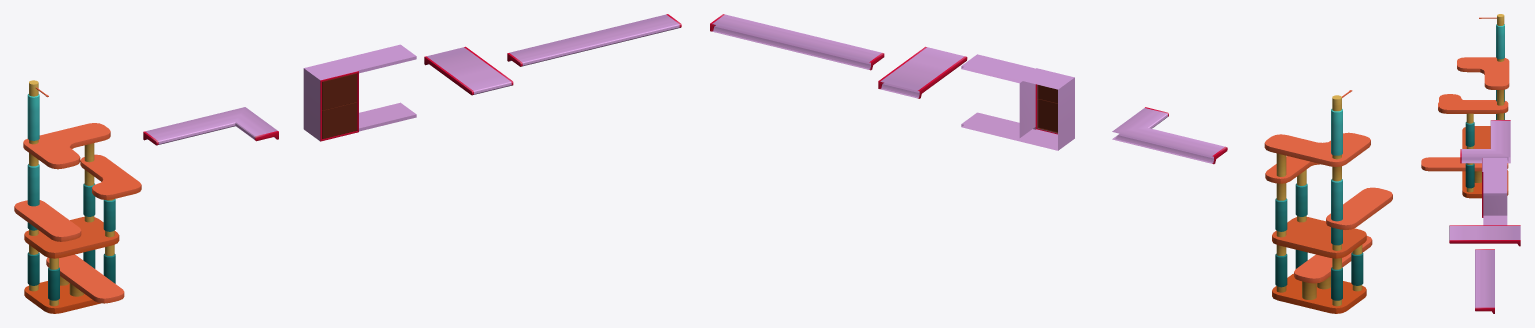
The model's file is Racks.fbx.
The picture shows the model from 3 angles, left to right: view 1: azimuth 30°, elevation 25°; view 2: azimuth 150°, elevation 25°; view 3: azimuth 270°, elevation 25°; orthographic projection. The views are drawn at different scales.
Parts seen in each view (by area): view 1: Rack.001, Rack.004, Rack, Rack.002, Rack.003; view 2: Rack.001, Rack.004, Rack, Rack.002, Rack.003; view 3: Rack.001, Rack.004, Rack.003, Rack, Rack.002.
Boxes of the visible parts, box(x1,y1,x2,y2) form: Rack.001: box(14, 80, 141, 313); Rack.004: box(303, 44, 416, 141); Rack: box(507, 14, 681, 66); Rack.002: box(143, 107, 278, 145); Rack.003: box(424, 46, 513, 95); Rack.001: box(1264, 90, 1392, 313); Rack.004: box(961, 54, 1074, 150); Rack: box(710, 14, 884, 70); Rack.002: box(1112, 107, 1227, 164); Rack.003: box(878, 46, 967, 98); Rack.001: box(1421, 14, 1509, 198); Rack.004: box(1482, 158, 1507, 225); Rack.003: box(1449, 225, 1520, 246); Rack: box(1475, 249, 1494, 313); Rack.002: box(1460, 120, 1510, 163).
Size of the model in its own units: 887 by 278 by 157.
1 material, 1 textured.
